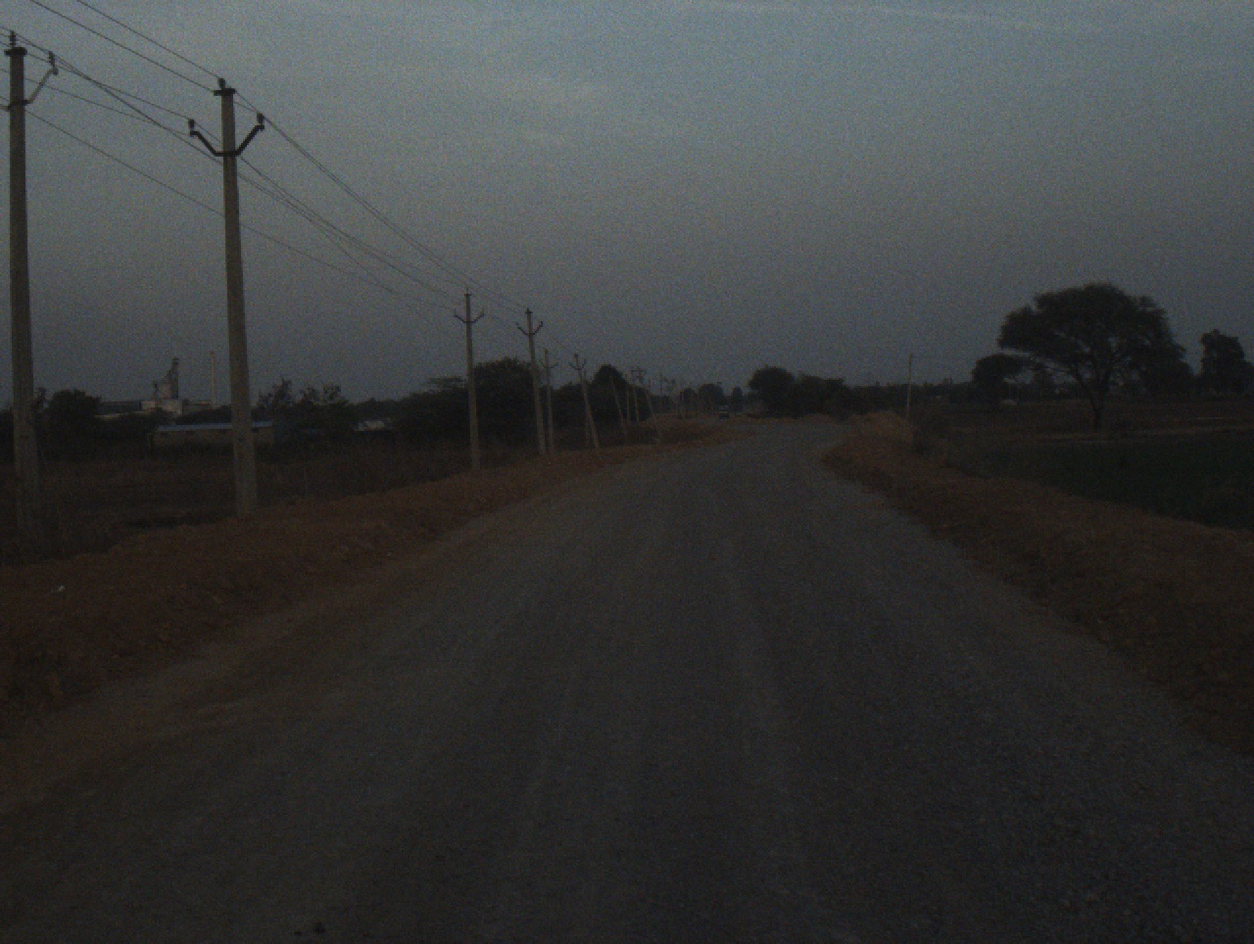car: (719, 404, 734, 416)
